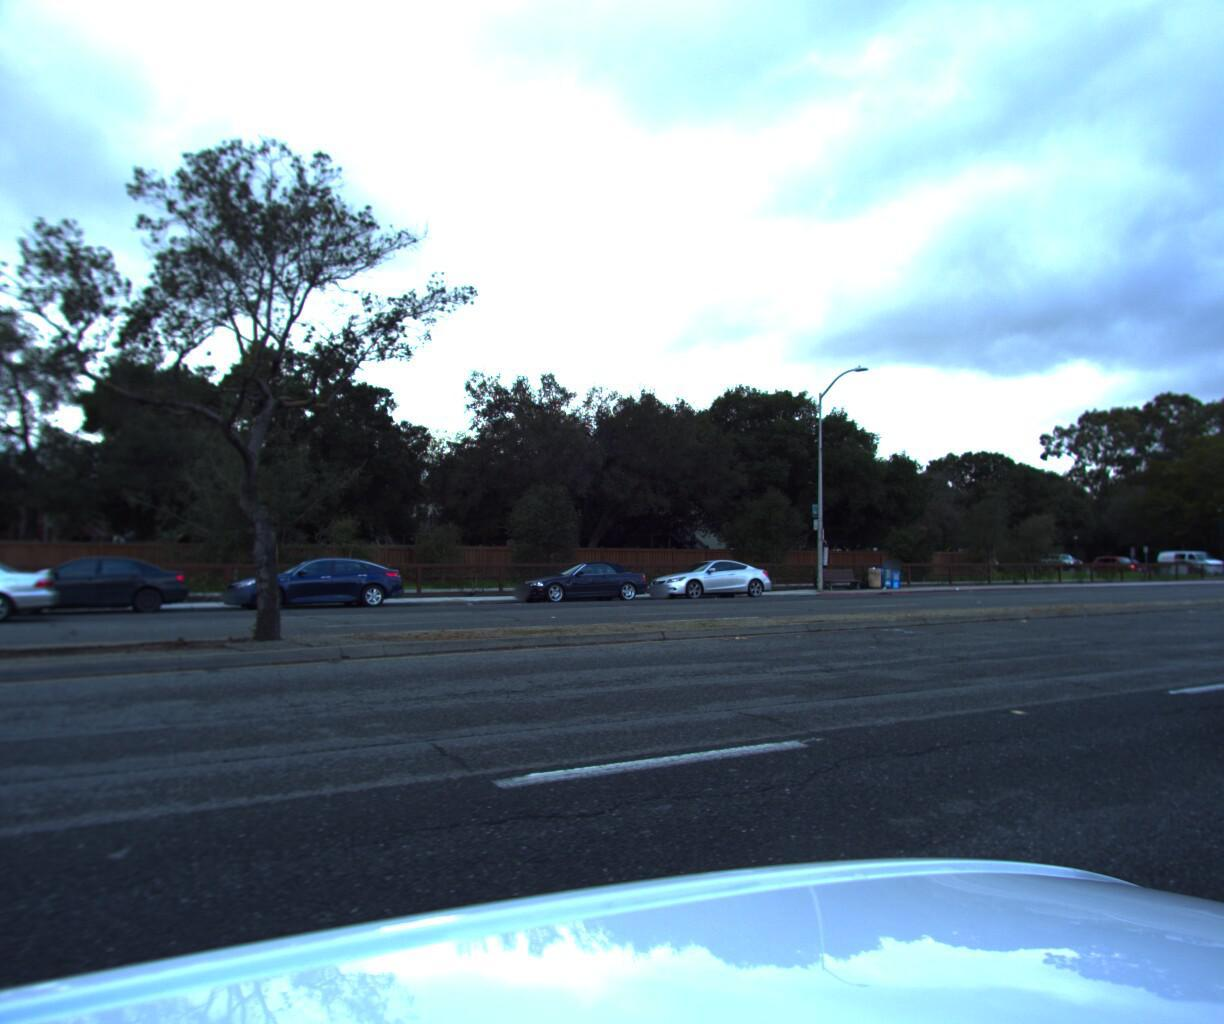car: (0, 554, 198, 620), (213, 557, 416, 616), (510, 555, 657, 604), (639, 555, 781, 599), (1196, 559, 1224, 773), (0, 551, 63, 631), (1148, 545, 1223, 569)
